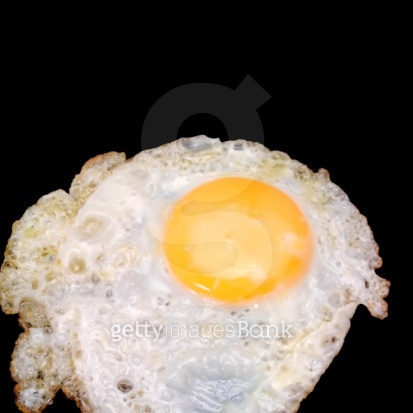fried egg: (28, 139, 397, 413)
